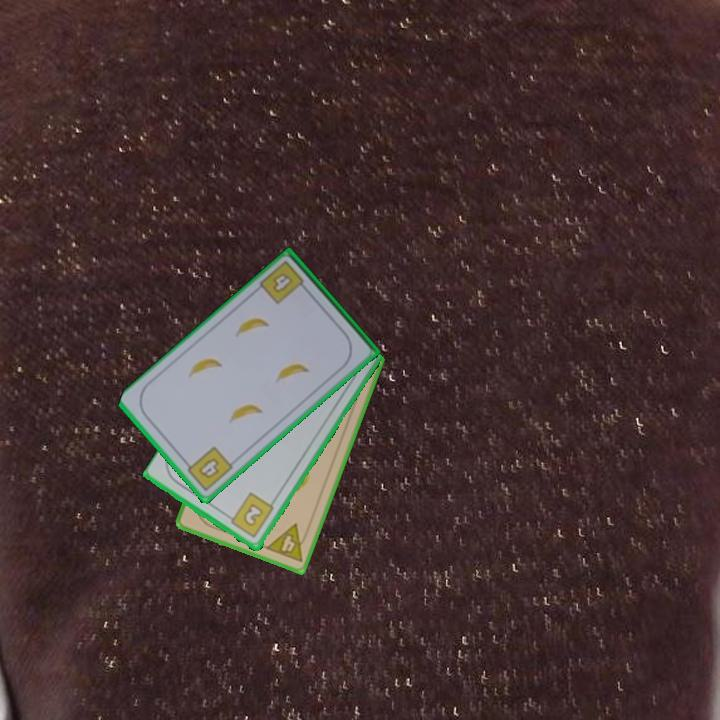2b: (223, 490, 277, 541)
4b: (181, 443, 236, 494), (256, 257, 311, 307)
4p: (262, 520, 313, 565)
